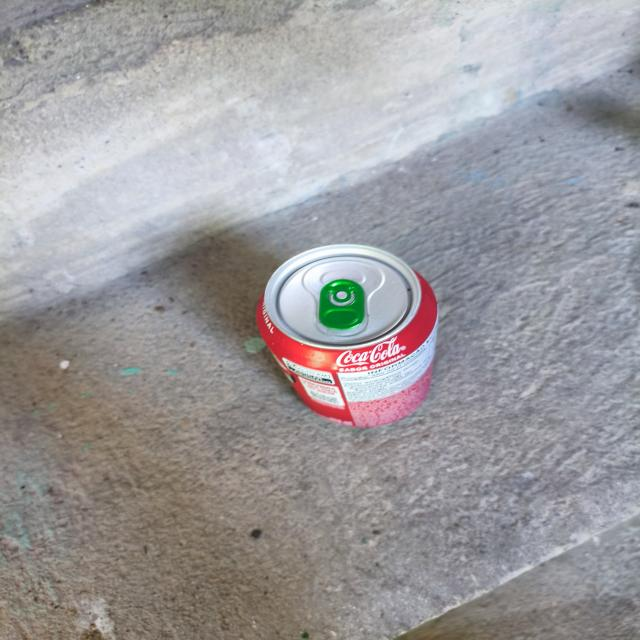Coca Cola: (255, 243, 440, 426)
